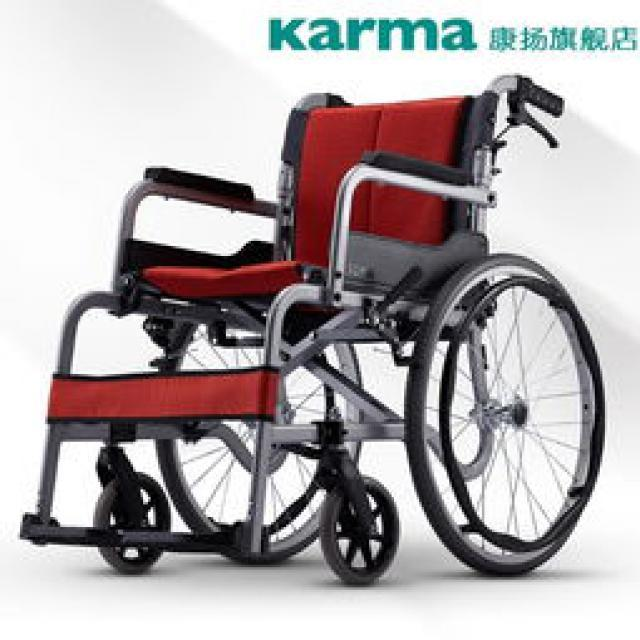wheelchair: (28, 70, 612, 595)
